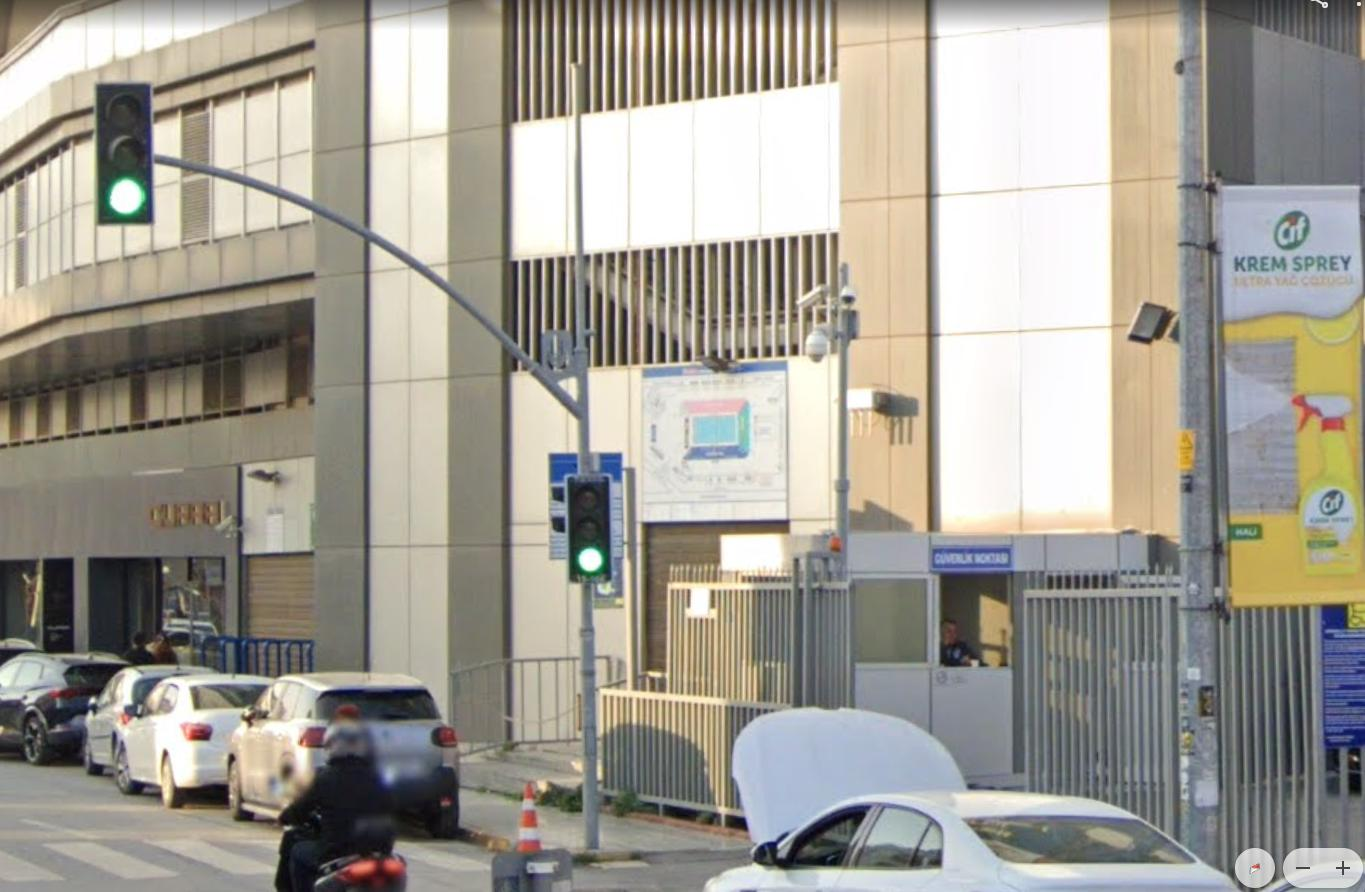greenlight: (92, 80, 152, 227), (569, 474, 611, 581)
